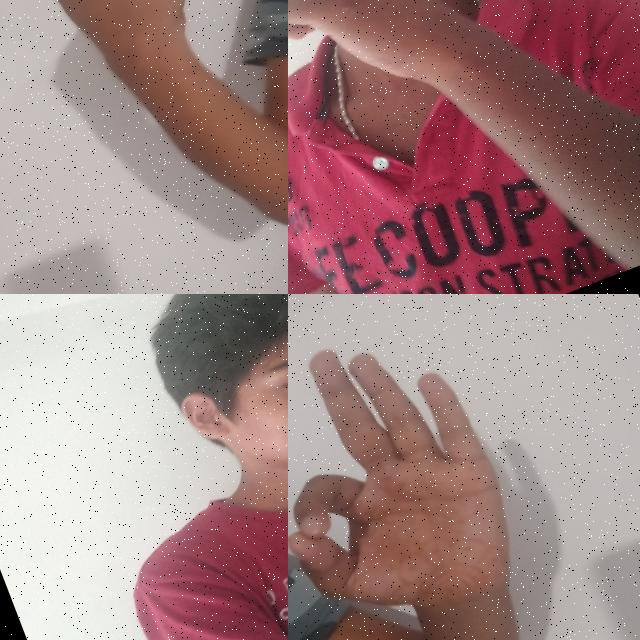Dulya: (23, 0, 233, 130)
Fist Mouth: (121, 294, 288, 621), (288, 0, 572, 171)
Okay: (288, 299, 553, 640)
